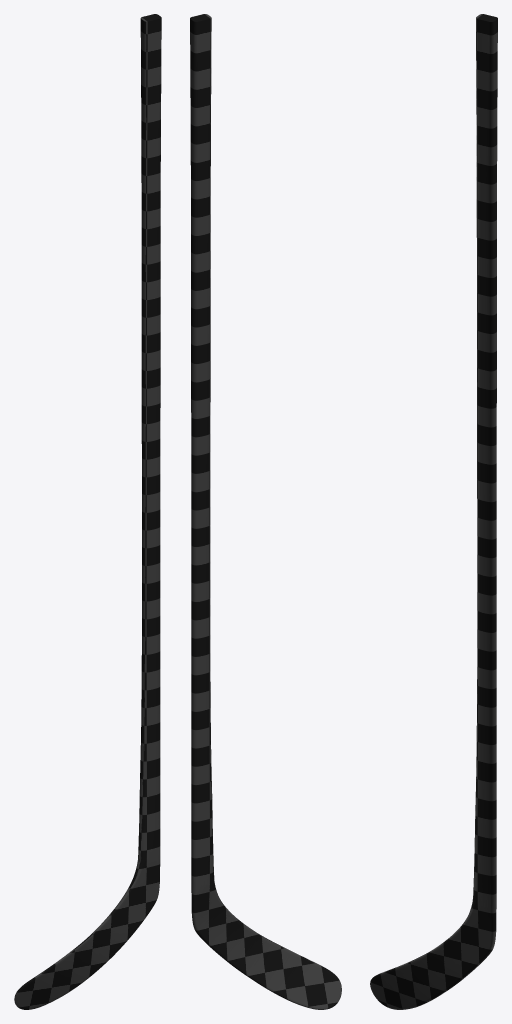
File: P102-SBO.glb
The picture shows the model from 3 angles, left to right: view 1: azimuth 30°, elevation 25°; view 2: azimuth 210°, elevation 25°; view 3: azimuth 330°, elevation 25°; orthographic projection. The views are drawn at different scales.
Parts seen in each view (by area): view 1: geometry_0; view 2: geometry_0; view 3: geometry_0.
Part boxes in pixels (x1,y1,x2,y2): geometry_0: (14, 14, 161, 1009); geometry_0: (190, 14, 341, 1009); geometry_0: (370, 14, 497, 1009).
Bounding box in the file's own units: 233 × 1650 × 57.36.
Materials: 1 (1 with a texture image).
